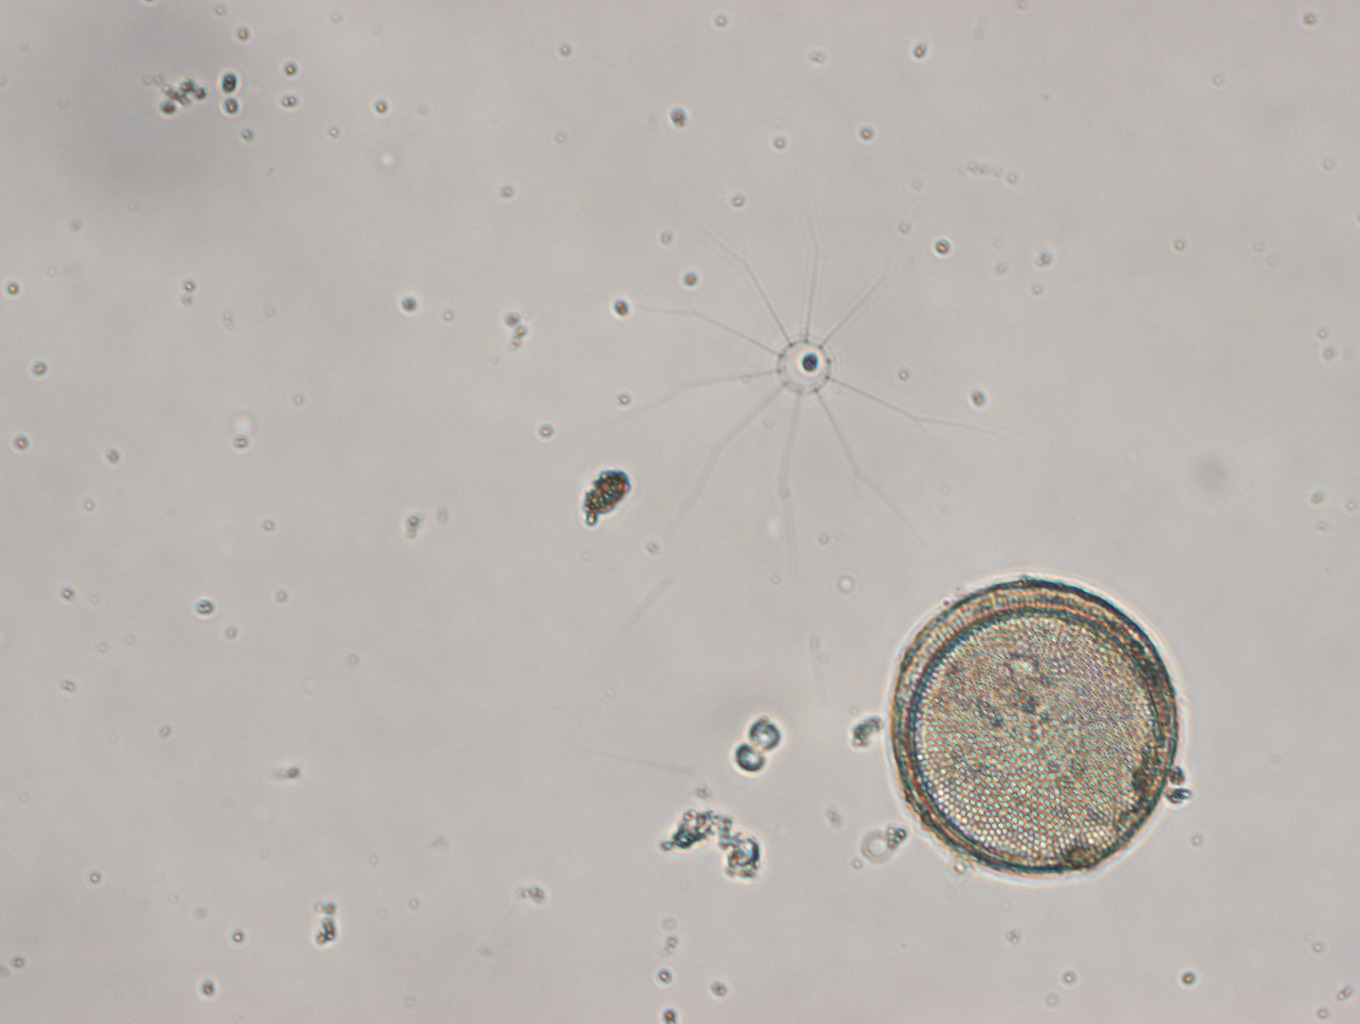bacteriastrum: (639, 210, 991, 550)
coscinodiscus: (888, 579, 1179, 877)
